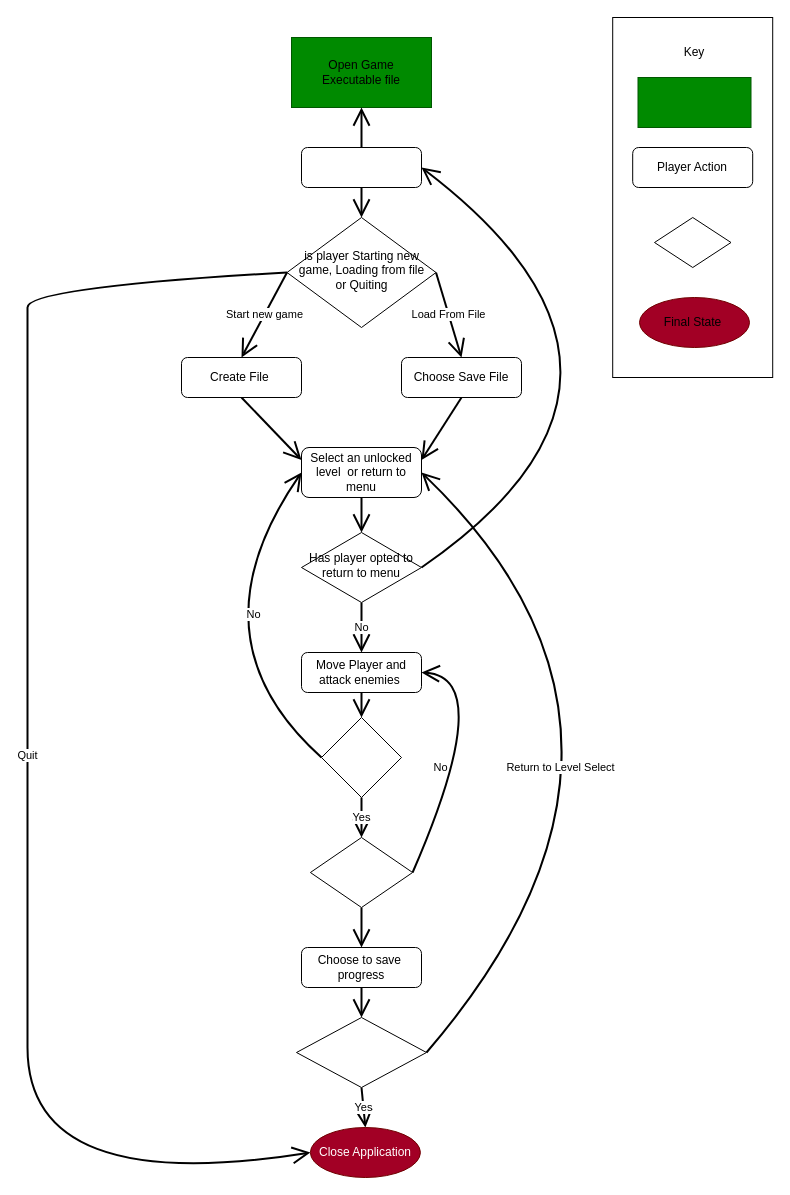
Image size: 790x1195. Some labels were removed from this diagram. Each missing label, with the centre of its shape:
"Chooses to Quit or select Level" belongs at (x=361, y=1052).
"Does player Have health" belongs at (x=361, y=757).
"Has Player reached End" belongs at (x=361, y=872).
"Player Choice" belongs at (x=692, y=242).
"Select Menu option" belongs at (x=361, y=167).
"start" belongs at (x=694, y=102).
